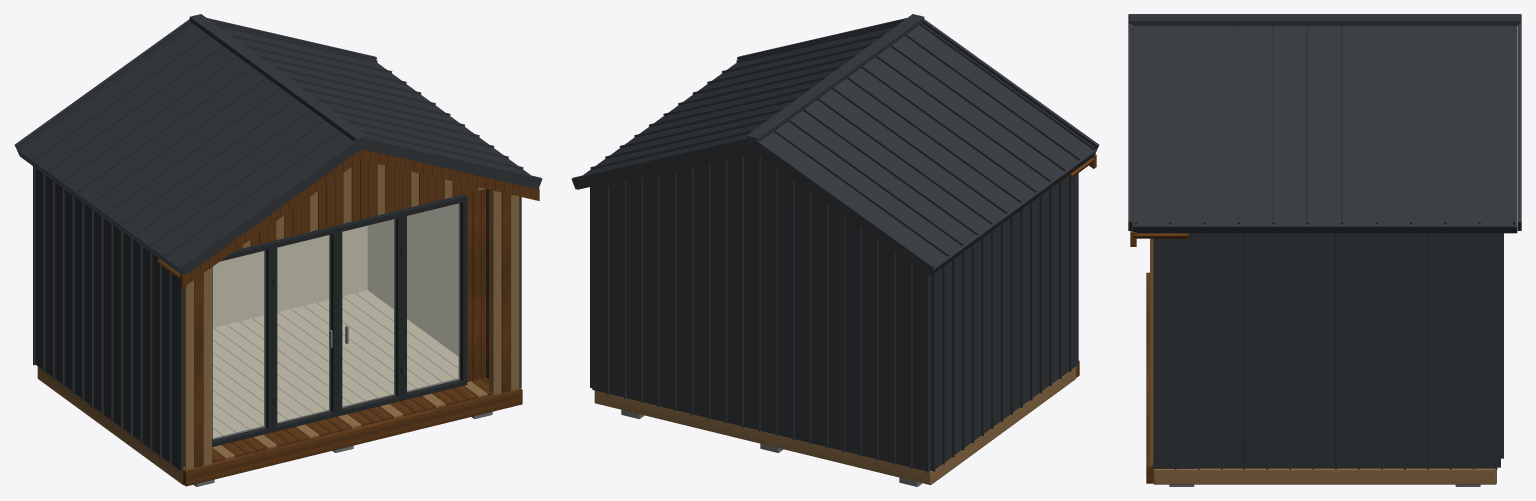
File: house_nova.glb
3 renders of one model, left to right at view 1: azimuth 30°, elevation 25°; view 2: azimuth 150°, elevation 25°; view 3: azimuth 270°, elevation 25°, orthographic. The views are drawn at different scales.
Visible parts, largest first — view 1: NOVA Classic click — antracitový plech, NOVA průhledné zasklení, NOVA světlé vnitřní palubky, NOVA Thermowood — tepelně upravená borovice, NOVA Thermowood — tmavší lamely, NOVA antracitové rámy; view 2: NOVA Classic click — antracitový plech, NOVA Thermowood — tmavší lamely; view 3: NOVA Classic click — antracitový plech, NOVA Thermowood — tmavší lamely, NOVA Thermowood — tepelně upravená borovice.
Boxes of the visible parts, x1,y1,x2,y2 form: NOVA Classic click — antracitový plech: (14, 14, 542, 470); NOVA průhledné zasklení: (212, 203, 459, 439); NOVA světlé vnitřní palubky: (212, 203, 458, 437); NOVA Thermowood — tepelně upravená borovice: (157, 149, 539, 486); NOVA Thermowood — tmavší lamely: (37, 164, 519, 484); NOVA antracitové rámy: (212, 194, 467, 446); NOVA Classic click — antracitový plech: (571, 14, 1099, 472); NOVA Thermowood — tmavší lamely: (594, 366, 1076, 484); NOVA Classic click — antracitový plech: (1128, 14, 1521, 469); NOVA Thermowood — tmavší lamely: (1150, 238, 1496, 484); NOVA Thermowood — tepelně upravená borovice: (1130, 27, 1194, 483).
Size of the model in its own units: 4.29 by 3.71 by 3.43.
Materials: 8 (1 with a texture image).
